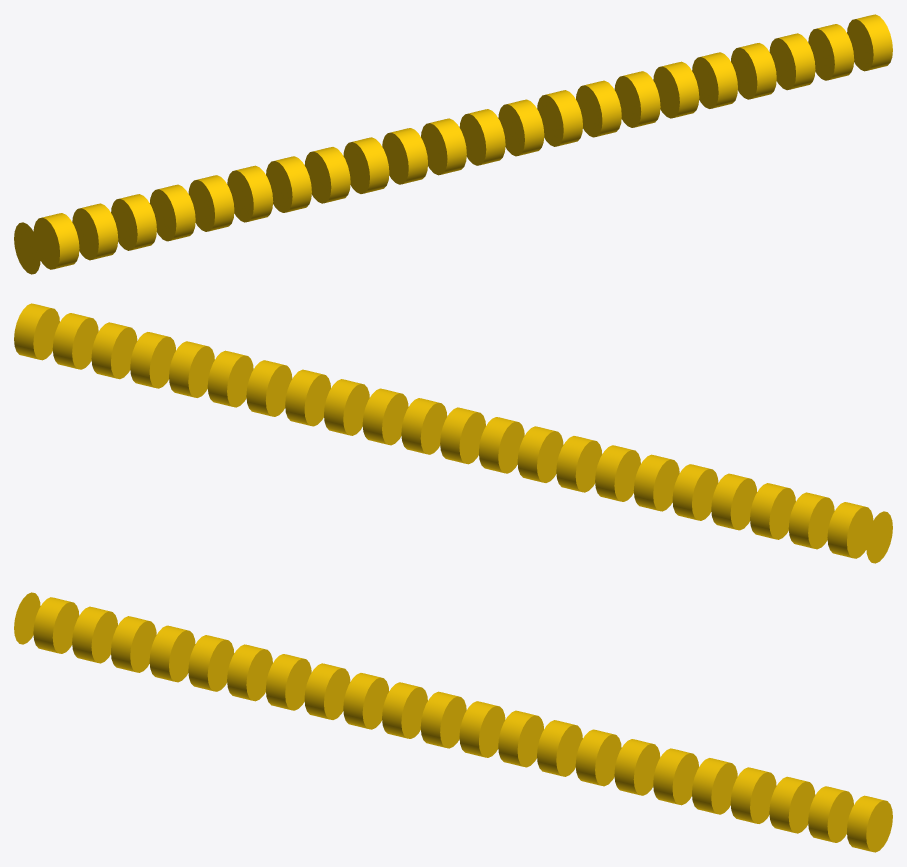
Rendered from GUNZI.FBX.
The picture shows the model from 3 angles, top to bottom: view 1: azimuth 30°, elevation 25°; view 2: azimuth 150°, elevation 25°; view 3: azimuth 330°, elevation 25°; orthographic projection.
Parts seen in each view (by area): view 1: Cylinder002; view 2: Cylinder002; view 3: Cylinder002.
Part boxes in pixels (x1,y1,x2,y2): Cylinder002: [14, 14, 892, 274]; Cylinder002: [14, 303, 892, 563]; Cylinder002: [14, 592, 892, 852].
Size of the model in its own units: 11.02 by 0.6 by 0.6.
